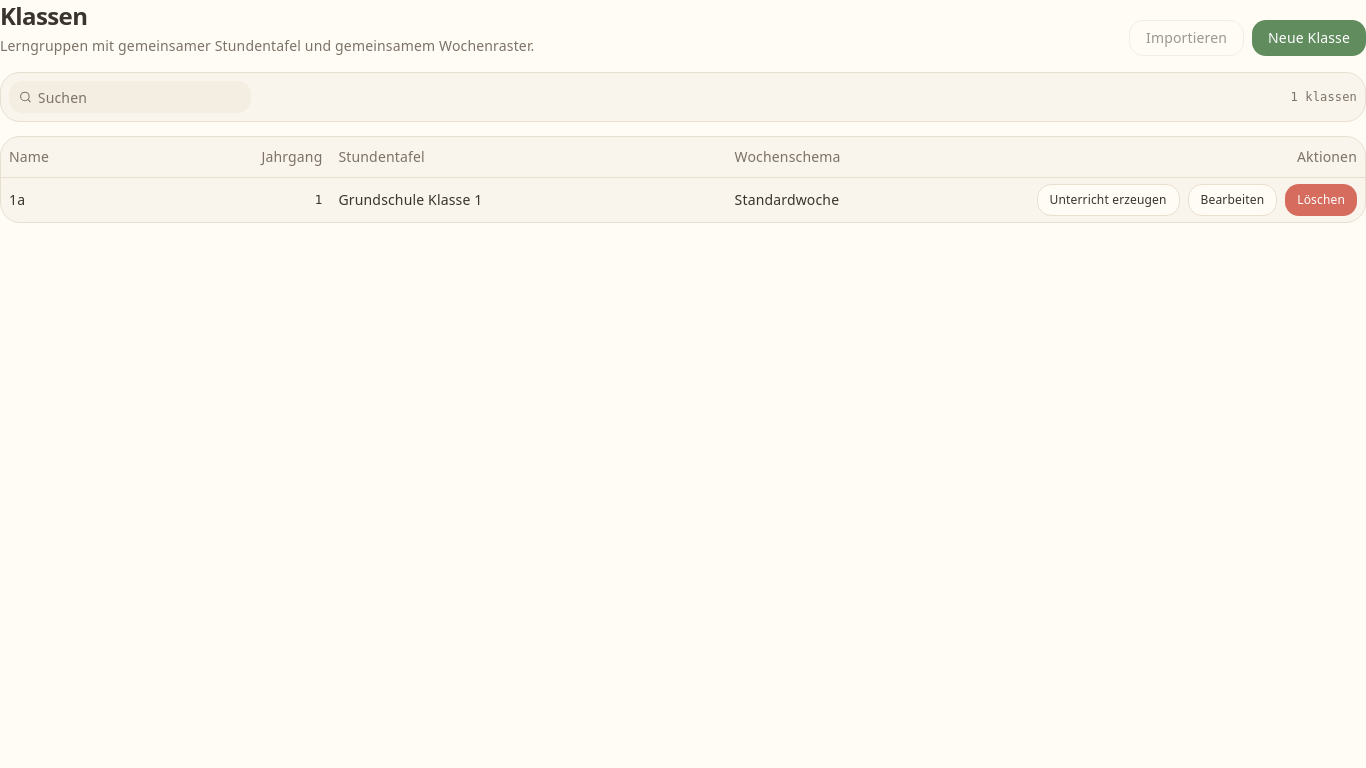
SchoolClassesPage Generate-lessons toast › shows a success toast with the interpolated lesson count
expect the text "1a" is shown: met, box [1, 177, 140, 222]
Click the button "Unterricht erzeugen" at (1108, 200), box [1036, 184, 1180, 216]
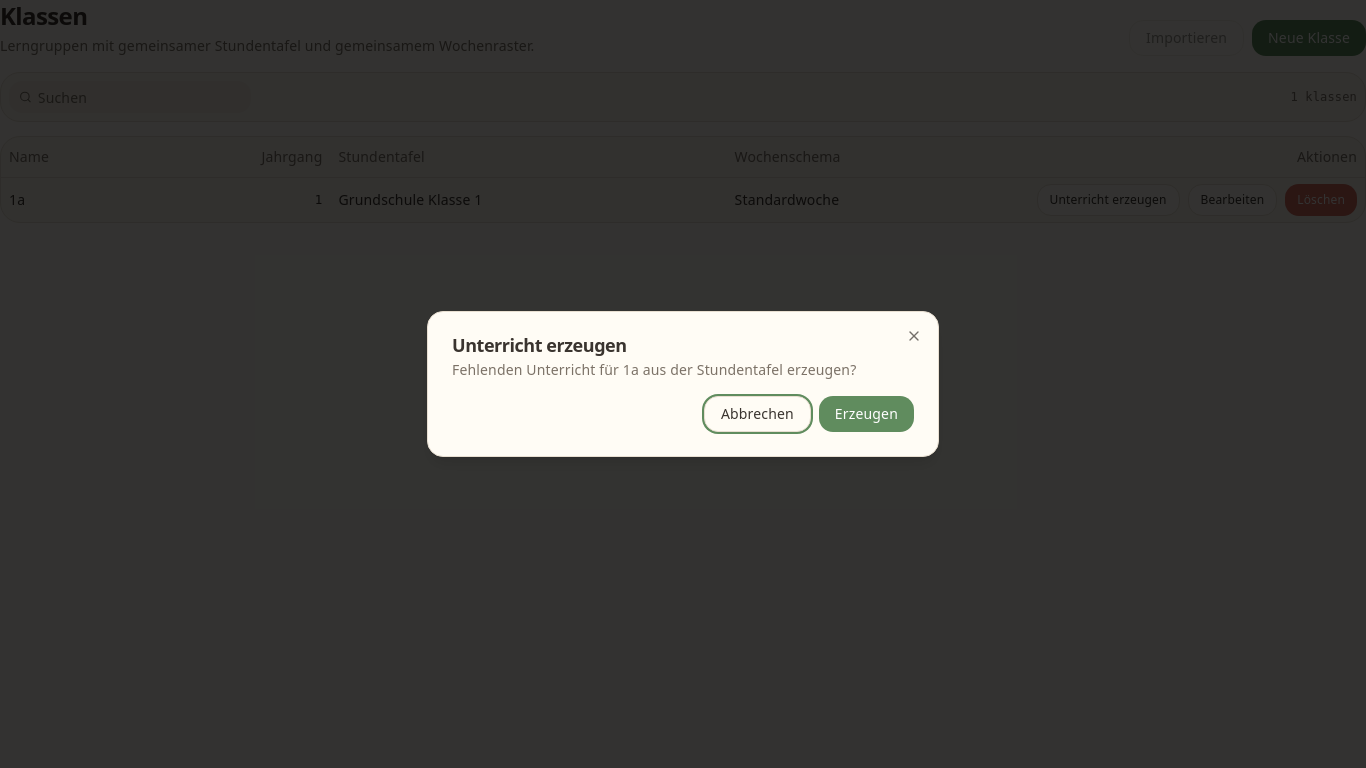
Click the button "Erzeugen" at (866, 414), box [819, 396, 914, 432]
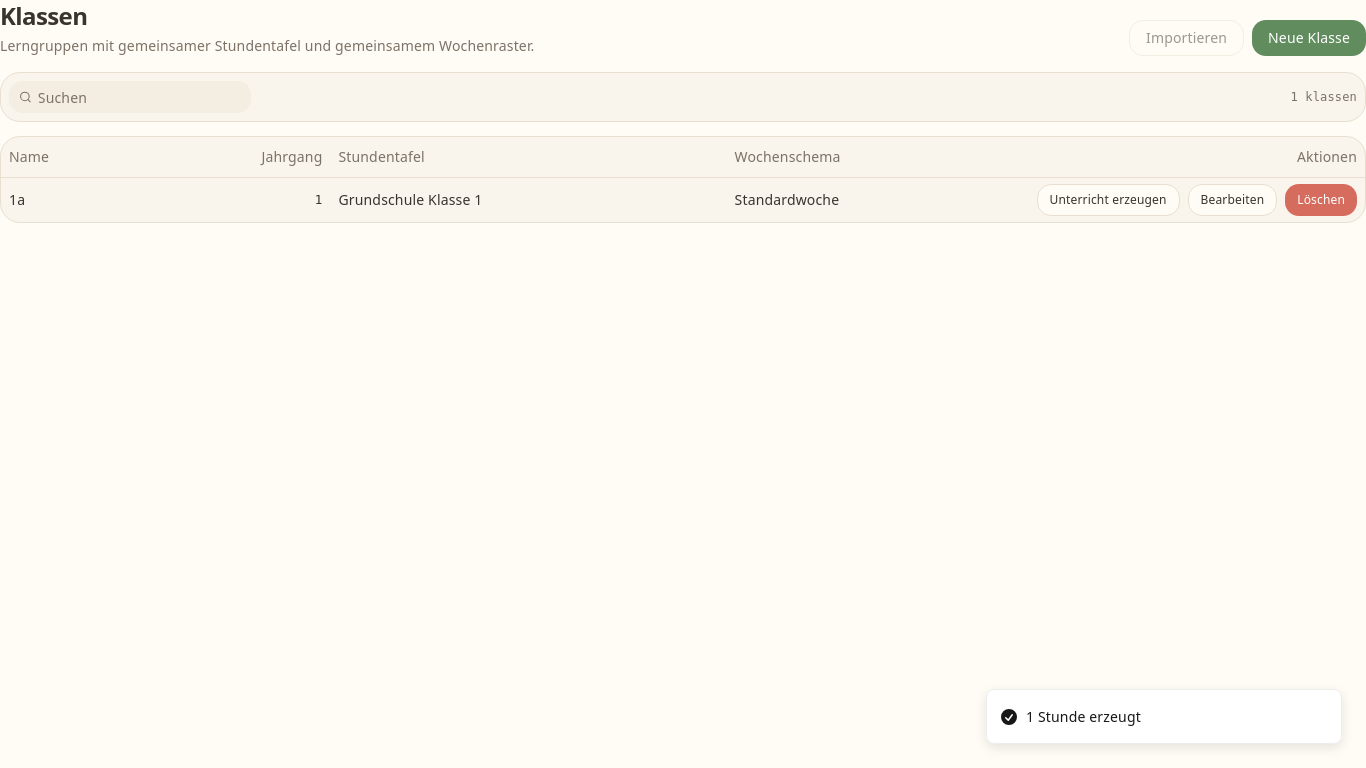
expect the text "1 Stunde erzeugt" is shown: met, box [1026, 706, 1141, 727]
